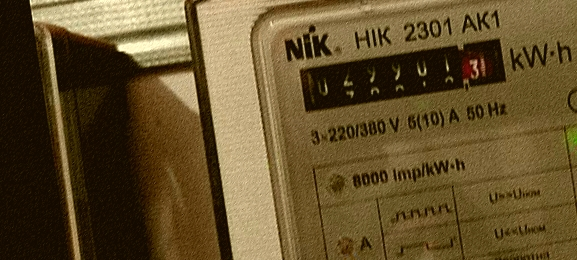0: (411, 52, 430, 79), (312, 73, 330, 97)
1: (438, 48, 453, 74)
2: (337, 64, 355, 88)
3: (464, 56, 483, 81)
9: (388, 58, 403, 83), (363, 61, 378, 83)
screen: (289, 28, 517, 123)
